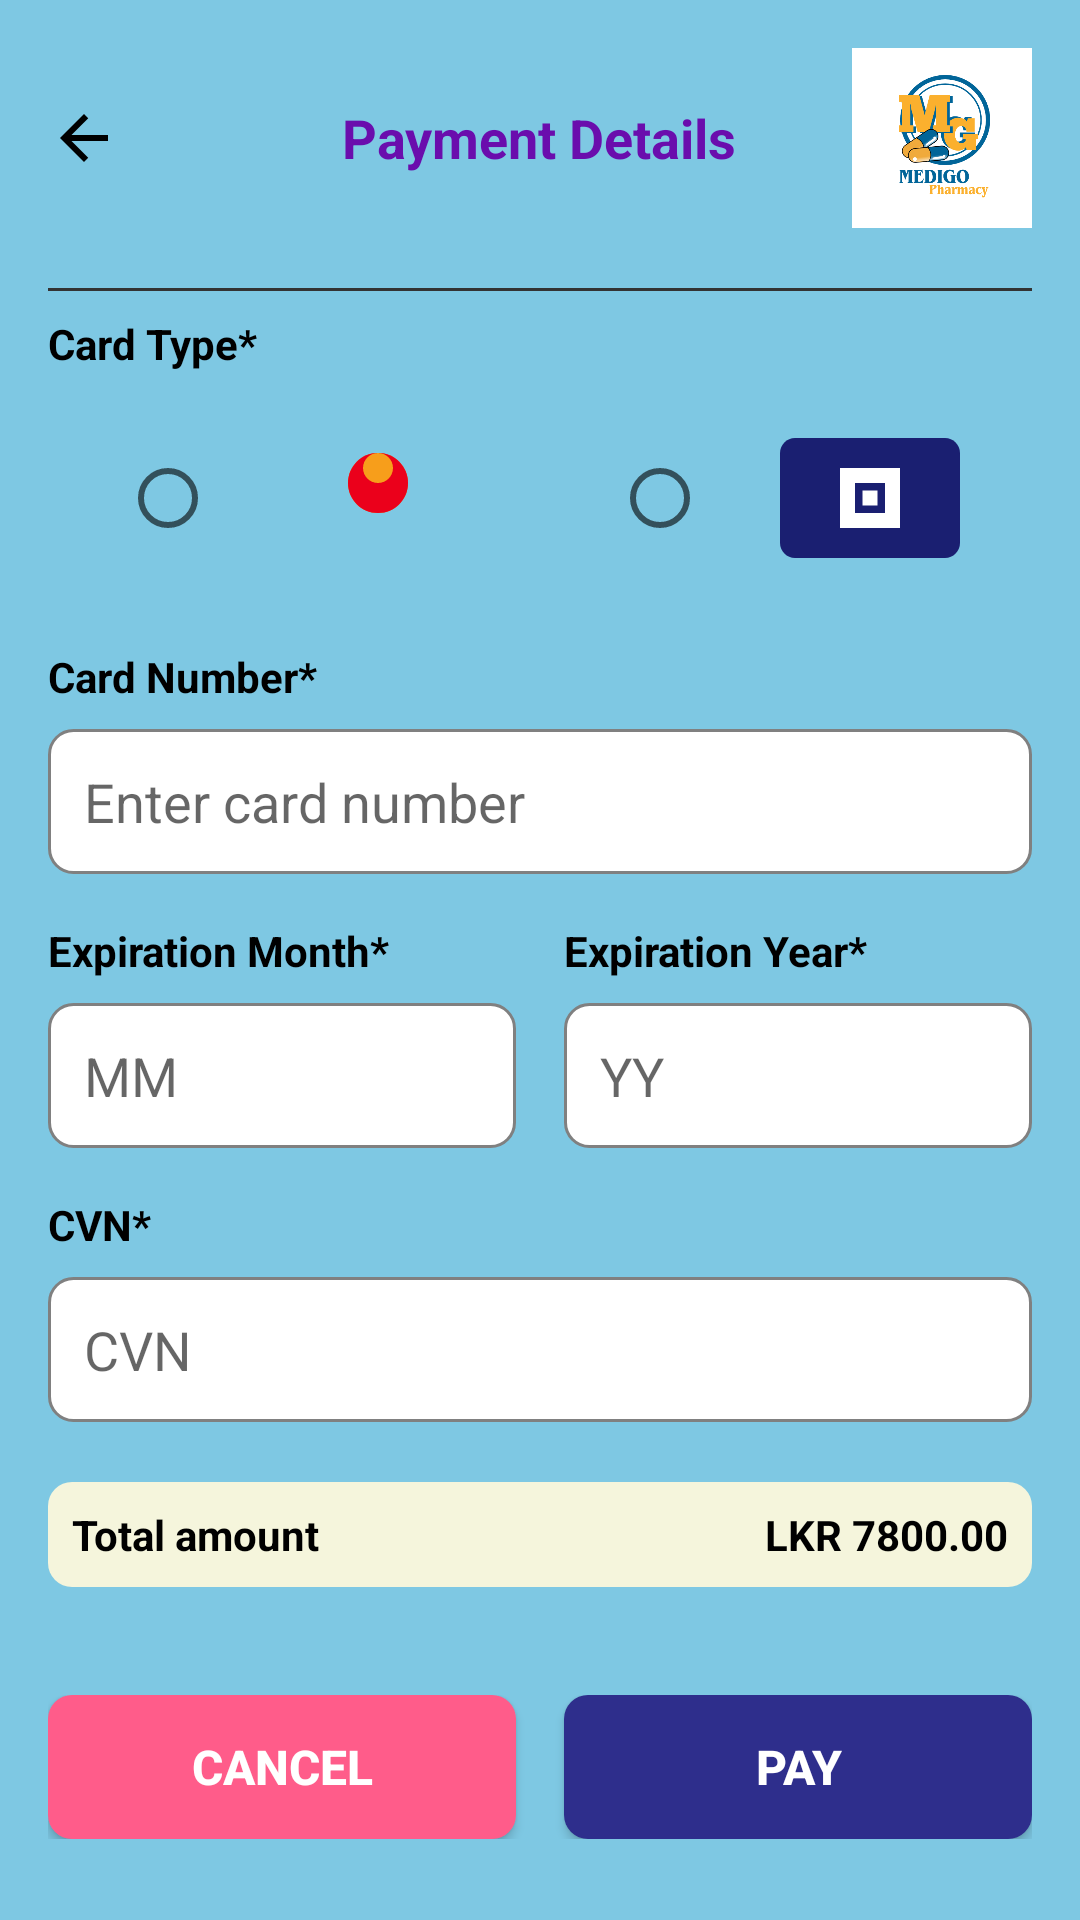

Icon bounding boxes for this 1080px×1920px phone screenshot, format (x1, y1, x2, y2):
arrow back: (60, 114, 108, 162)
